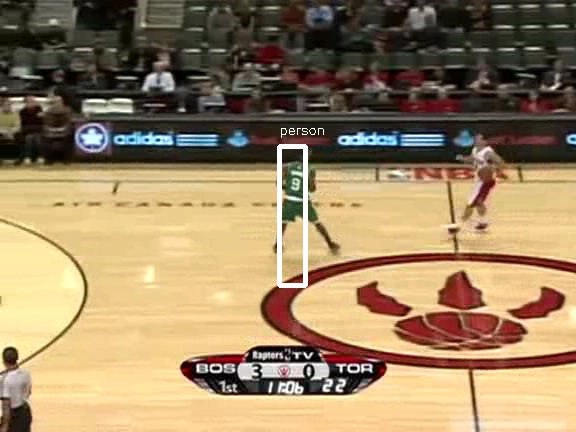person: (279, 151, 313, 232), (278, 151, 312, 232), (280, 151, 314, 232), (279, 150, 313, 231), (279, 152, 313, 233)
target_negative: (306, 60, 523, 351), (264, 174, 560, 266), (357, 66, 400, 389), (192, 358, 344, 422), (509, 410, 541, 421), (572, 247, 575, 360)
